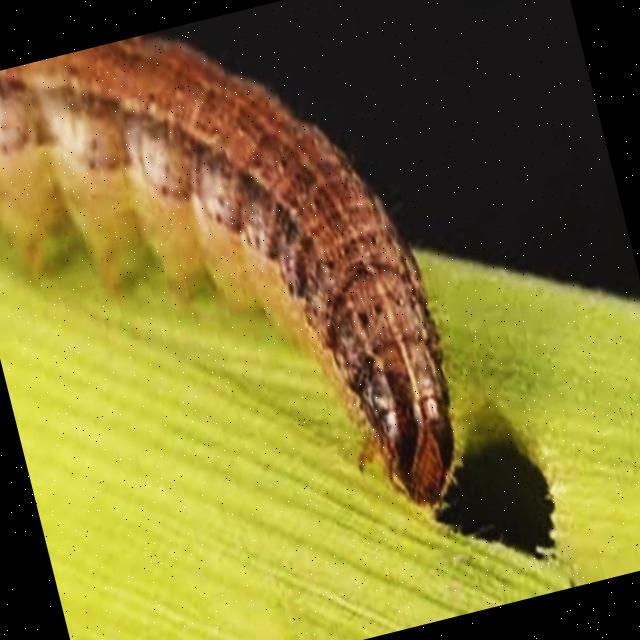worm: (1, 1, 485, 608)
